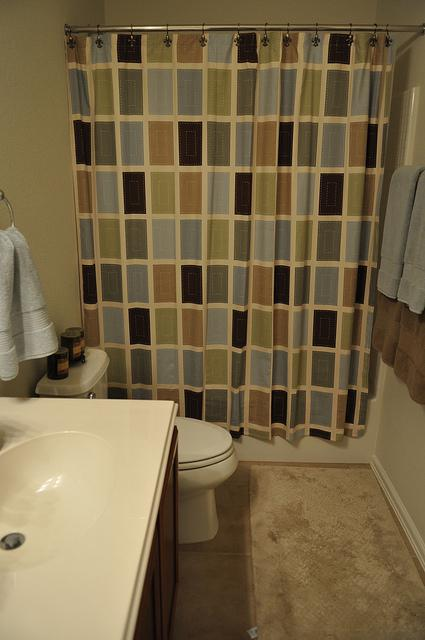Ducha: (71, 39, 380, 463)
Lavamanos: (3, 409, 131, 638)
Sanitario: (36, 319, 240, 547)
